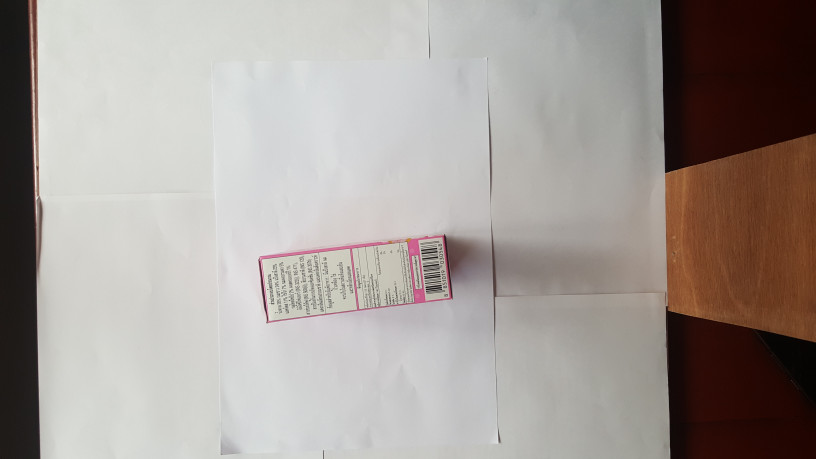collon-strawberry: (258, 236, 456, 325)
